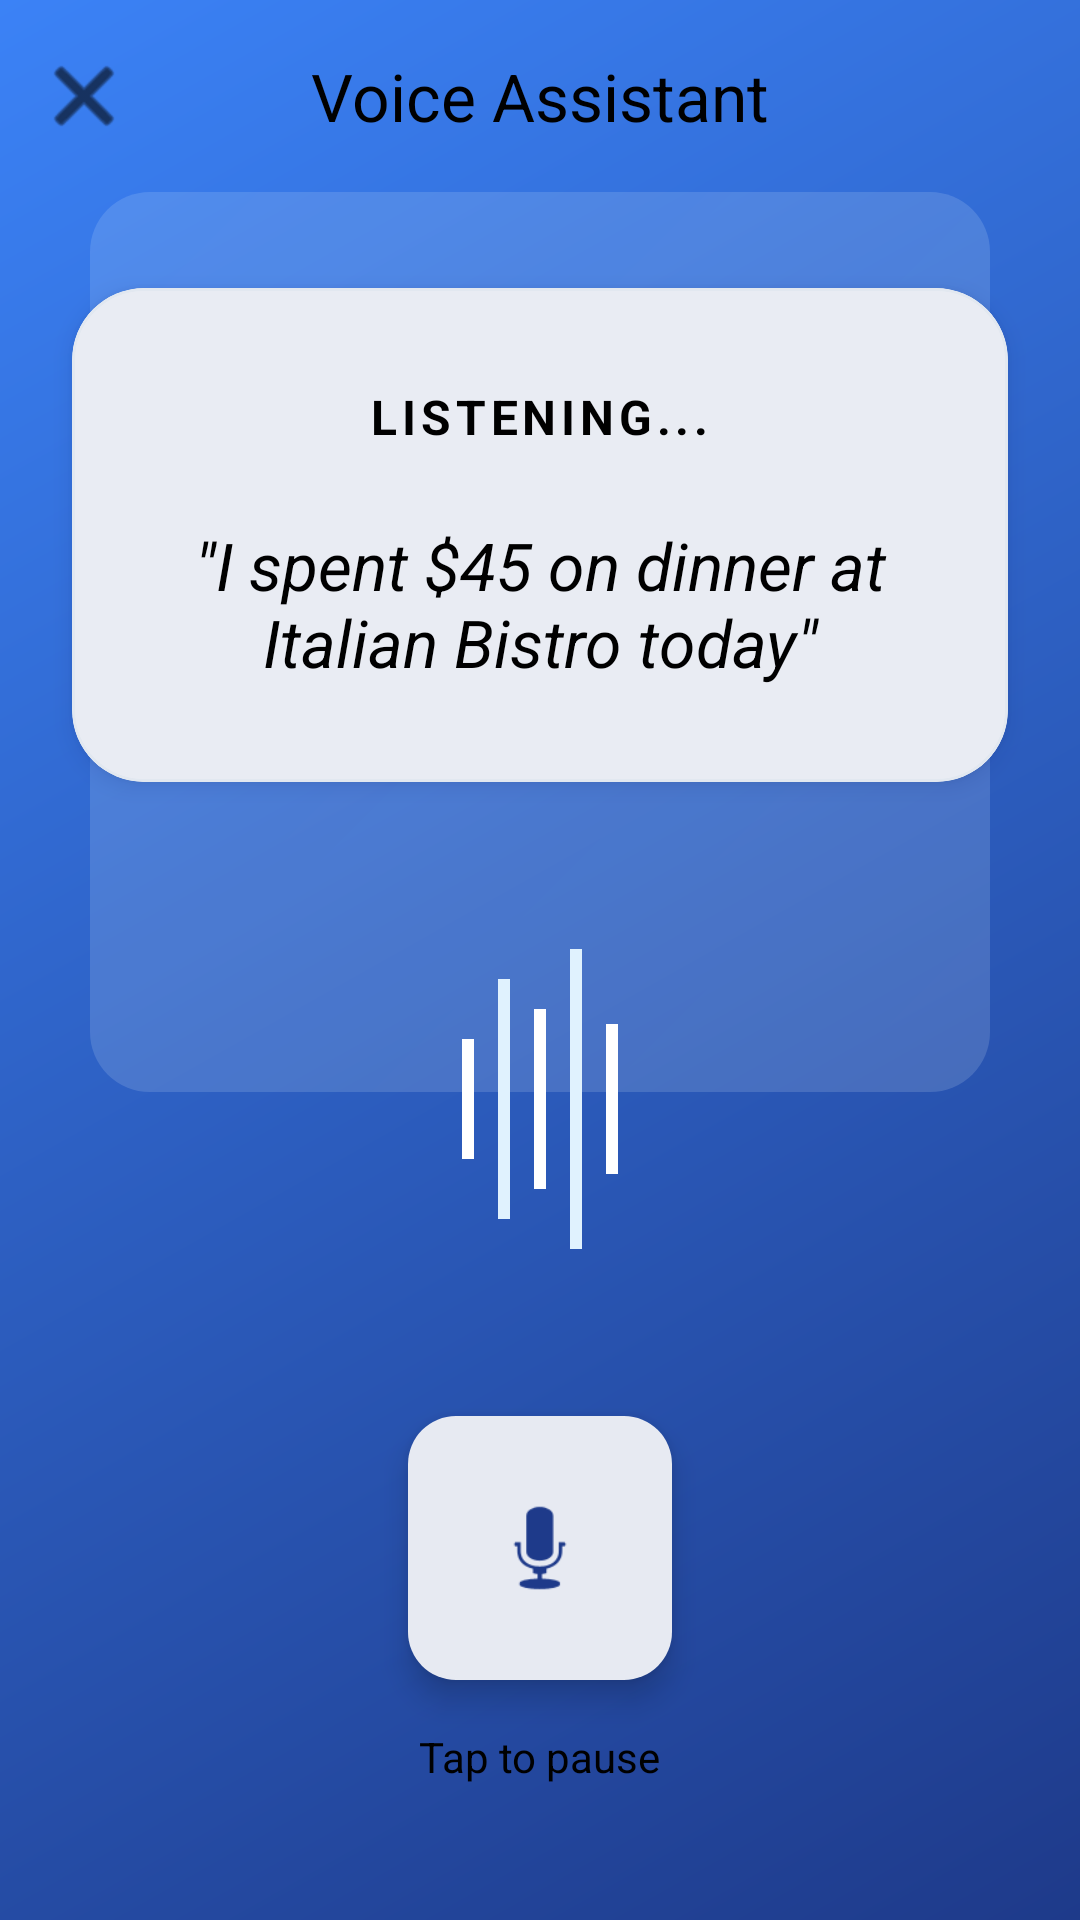

Icon click points for this 1080px x 1920px phone screenshot, format [x,y]:
speak now: [540,1548]
